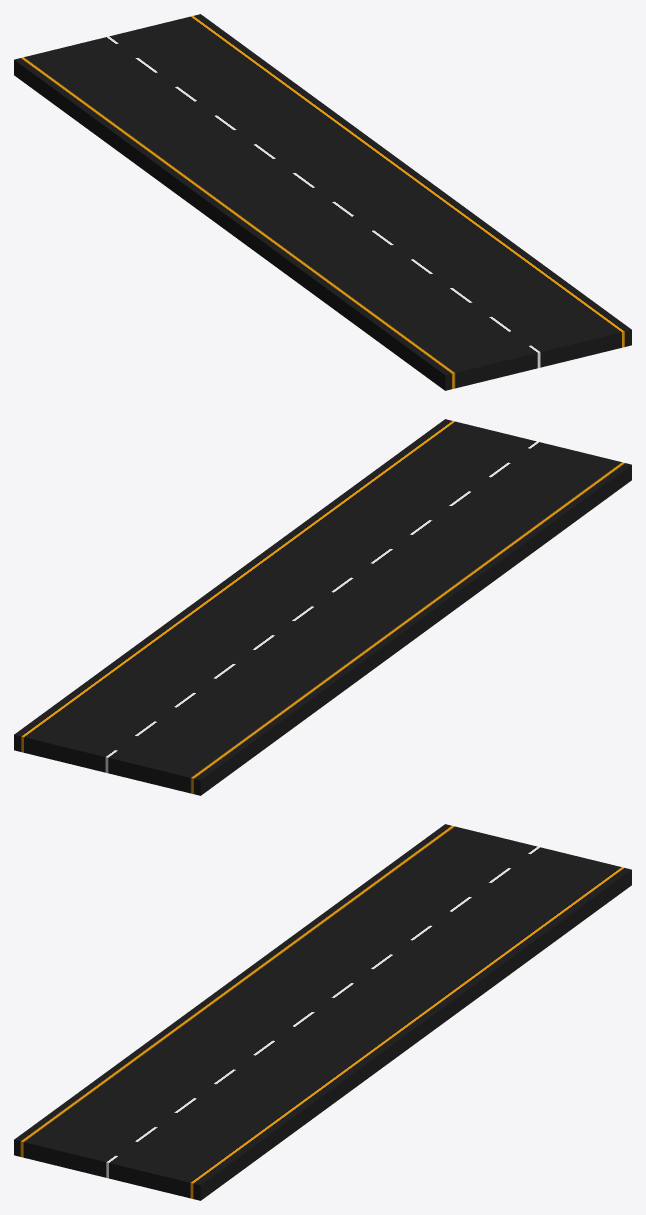
File: Floor.fbx
3 views of the same model, one above another, from view 1: azimuth 30°, elevation 25°; view 2: azimuth 150°, elevation 25°; view 3: azimuth 330°, elevation 25° (orthographic).
Parts seen in each view (by area): view 1: Cube; view 2: Cube; view 3: Cube.
Part boxes in pixels (left/top/right/bottom): Cube: left=14, top=14, right=631, bottom=390; Cube: left=14, top=419, right=631, bottom=795; Cube: left=14, top=824, right=631, bottom=1200.
Size of the model in its own units: 2500 by 200 by 10000.
